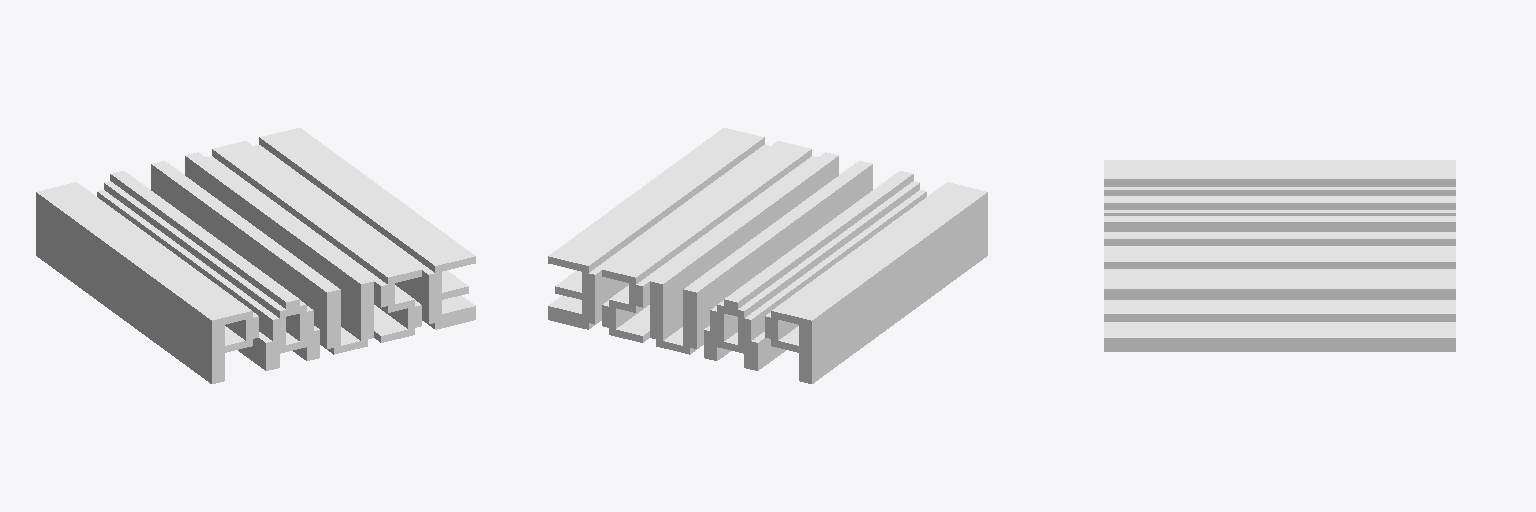
The model's file is pause.obj.
The picture shows the model from 3 angles: view 1: azimuth 30°, elevation 25°; view 2: azimuth 150°, elevation 25°; view 3: azimuth 270°, elevation 25°; orthographic projection.
Bounding box in the file's own units: 156 × 36 × 180.